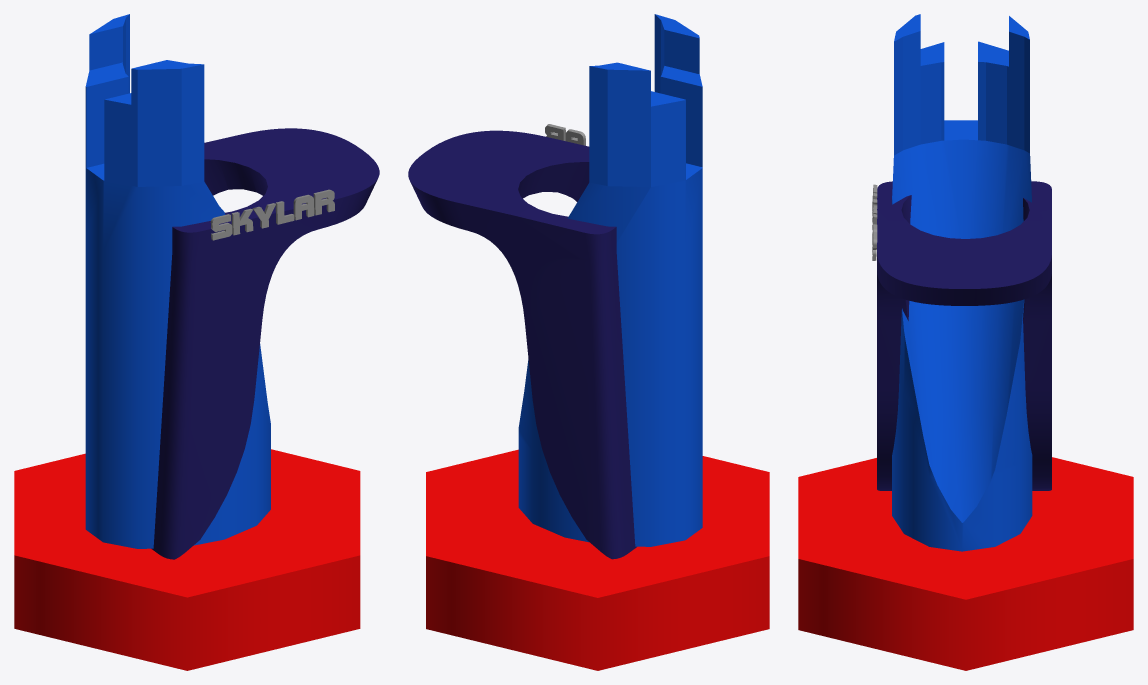
The model's file is skylarV2.FBX.
3 views of the same model, side by side, from view 1: azimuth 30°, elevation 25°; view 2: azimuth 150°, elevation 25°; view 3: azimuth 270°, elevation 25° (orthographic). The views are drawn at different scales.
Parts seen in each view (by area): view 1: skylar; view 2: skylar; view 3: skylar.
Part boxes in pixels (x1=…): skylar: x1=14, y1=14, x2=379, y2=670; skylar: x1=408, y1=14, x2=769, y2=670; skylar: x1=798, y1=14, x2=1133, y2=670.
Size of the model in its own units: 10042 by 15313 by 8660.
